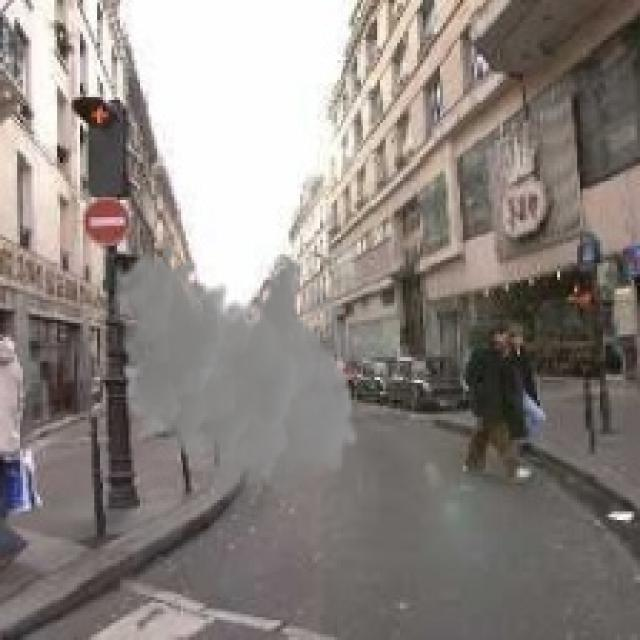smoke: (111, 243, 360, 511)
